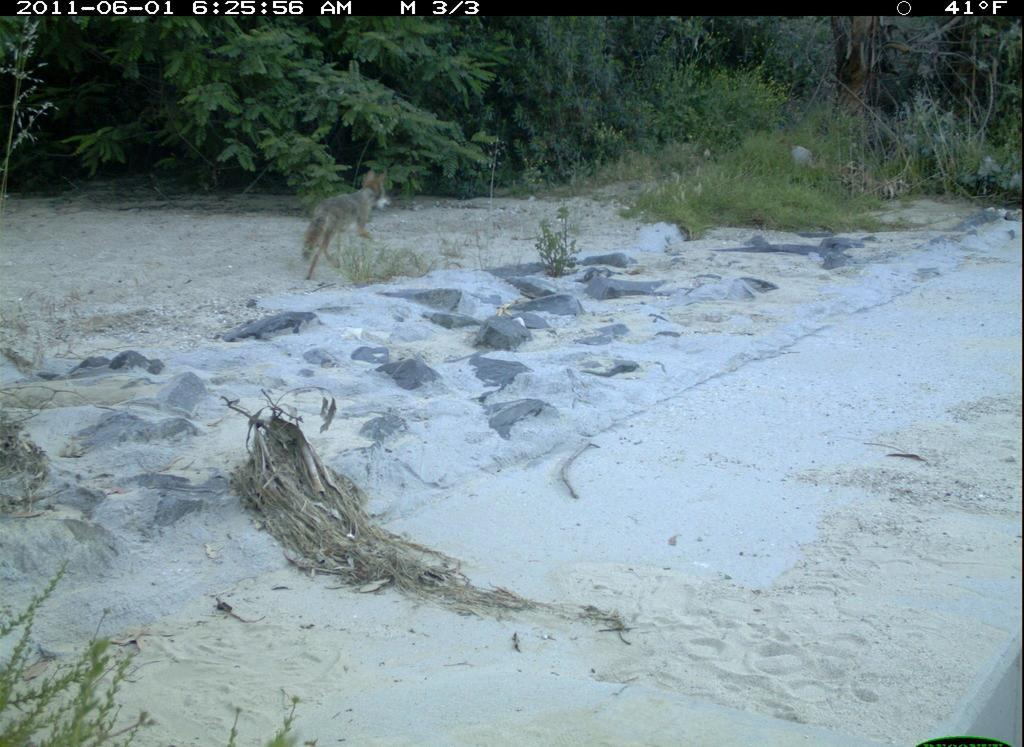coyote: (297, 163, 396, 286)
